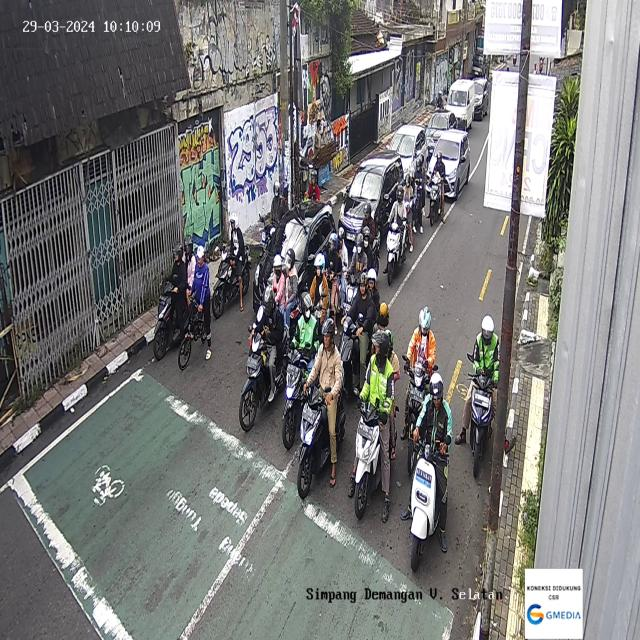car: (252, 200, 339, 316), (338, 151, 404, 250), (426, 128, 471, 200), (386, 123, 429, 183), (446, 78, 475, 130), (426, 110, 458, 155), (473, 78, 489, 120)
motorcycle: (348, 329, 401, 518), (407, 372, 454, 572), (297, 316, 346, 499), (456, 315, 502, 478), (238, 286, 287, 432), (282, 292, 322, 450), (403, 305, 437, 473), (338, 270, 381, 400), (153, 236, 196, 361), (254, 249, 302, 341), (212, 211, 252, 319), (345, 226, 374, 324), (258, 181, 290, 259), (303, 250, 331, 339), (384, 184, 408, 286), (326, 227, 348, 337), (352, 201, 378, 281), (426, 150, 444, 227), (400, 166, 414, 255), (414, 153, 426, 234), (301, 166, 321, 203), (434, 88, 444, 111)
